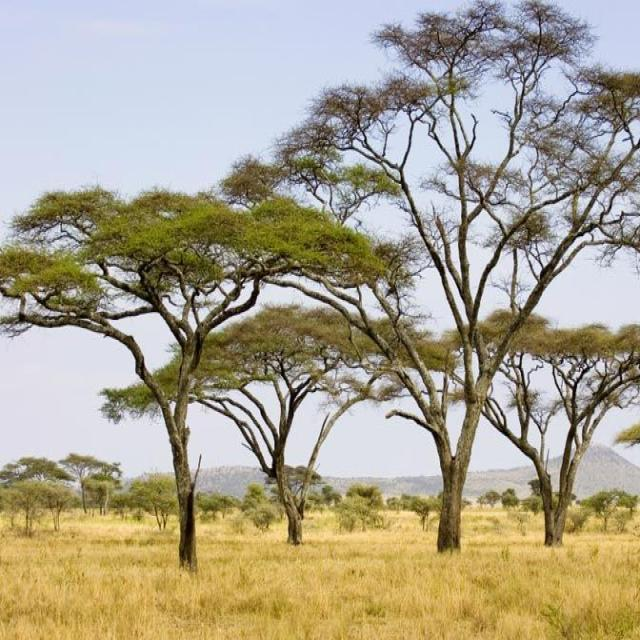Acacia: (245, 6, 640, 553), (0, 183, 382, 569), (102, 300, 453, 570), (436, 306, 640, 560)
